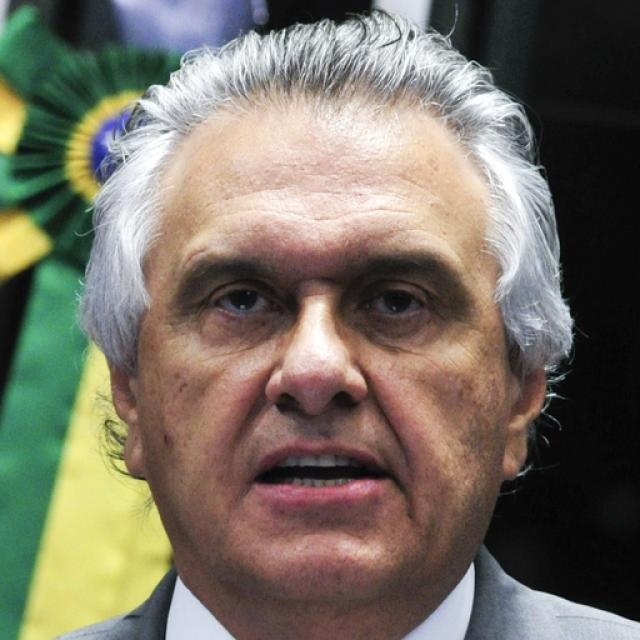Wrinkle: (369, 378, 412, 474), (236, 364, 274, 436), (302, 203, 425, 223), (220, 184, 291, 204)
